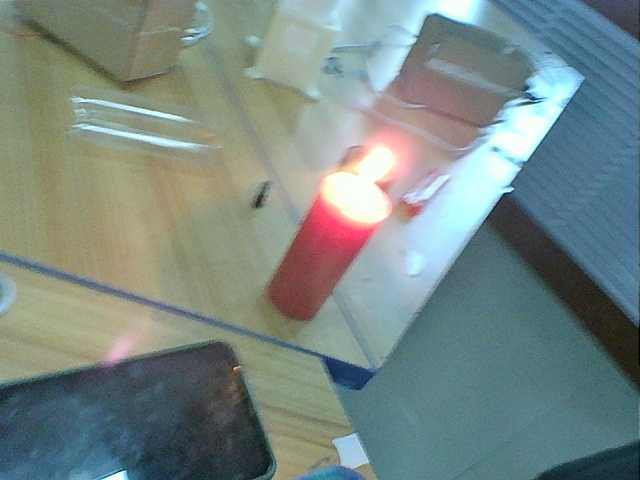candle: (266, 194, 383, 321)
fire: (316, 145, 411, 206)
